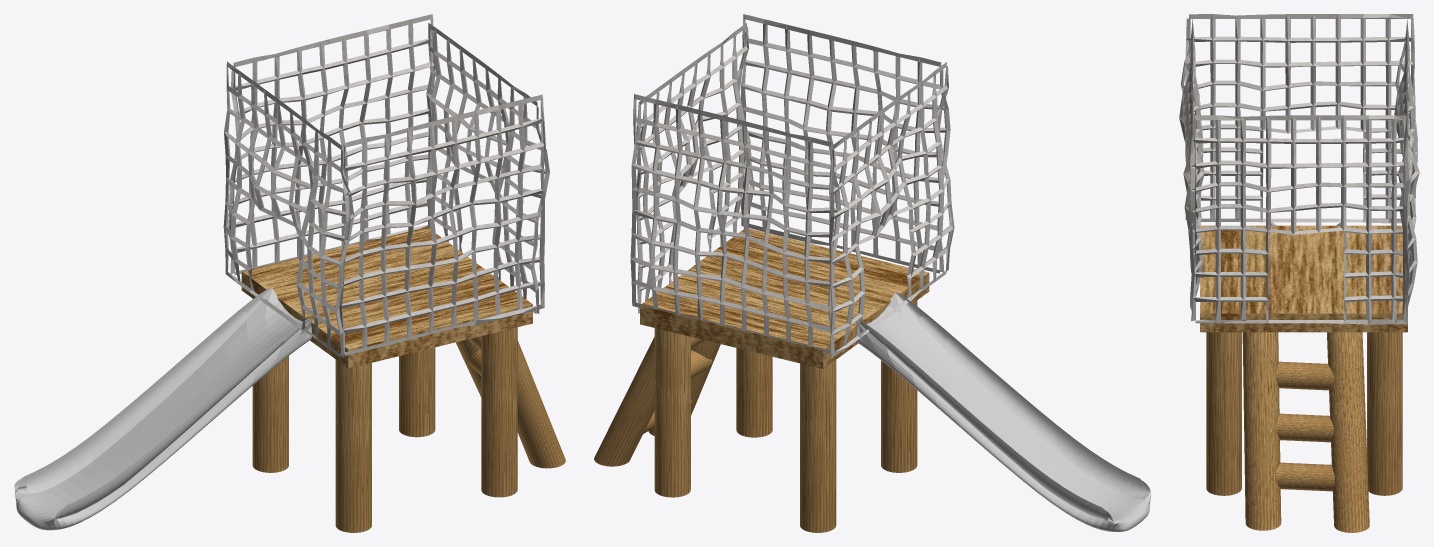
File: Toboggan.fbx
3 renders of one model, left to right at view 1: azimuth 30°, elevation 25°; view 2: azimuth 150°, elevation 25°; view 3: azimuth 270°, elevation 25°, orthographic. The views are drawn at different scales.
Visible parts, largest first — view 1: Cube; view 2: Cube; view 3: Cube.
Part boxes in pixels (box(x1,y1,x2,y2)): Cube: box(14, 14, 565, 532); Cube: box(594, 14, 1150, 532); Cube: box(1179, 14, 1419, 532).
Bounding box in the file's own units: 762 × 561 × 311.
